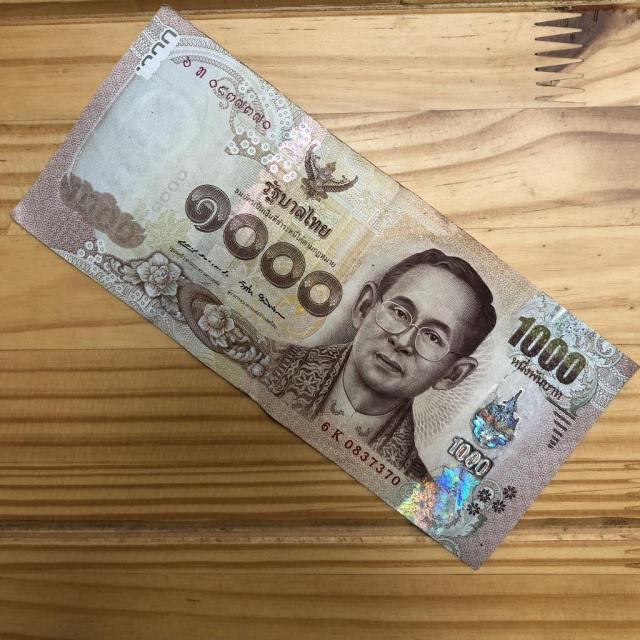THAI1000: (12, 9, 638, 571)
